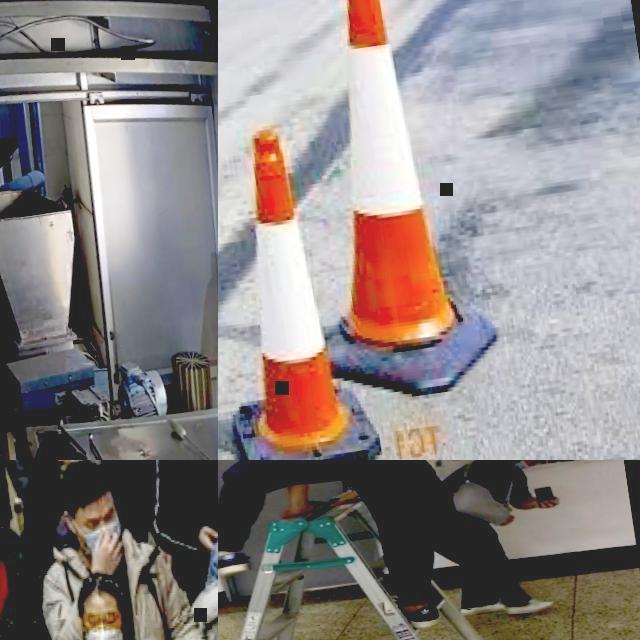mask: (77, 520, 126, 560), (83, 625, 126, 640), (57, 460, 102, 470), (509, 460, 531, 472)
no_helmet: (54, 460, 115, 512), (74, 567, 125, 611), (0, 612, 36, 640)
no_vest: (163, 460, 218, 572), (439, 460, 516, 533), (30, 462, 74, 554), (0, 563, 44, 640)
person: (218, 460, 489, 640), (23, 460, 213, 640), (417, 460, 593, 625), (6, 460, 157, 596), (46, 558, 217, 640), (130, 460, 218, 600), (0, 288, 67, 460), (0, 480, 57, 640), (0, 460, 140, 503)
safety_cone: (264, 0, 501, 409), (218, 120, 382, 460)
